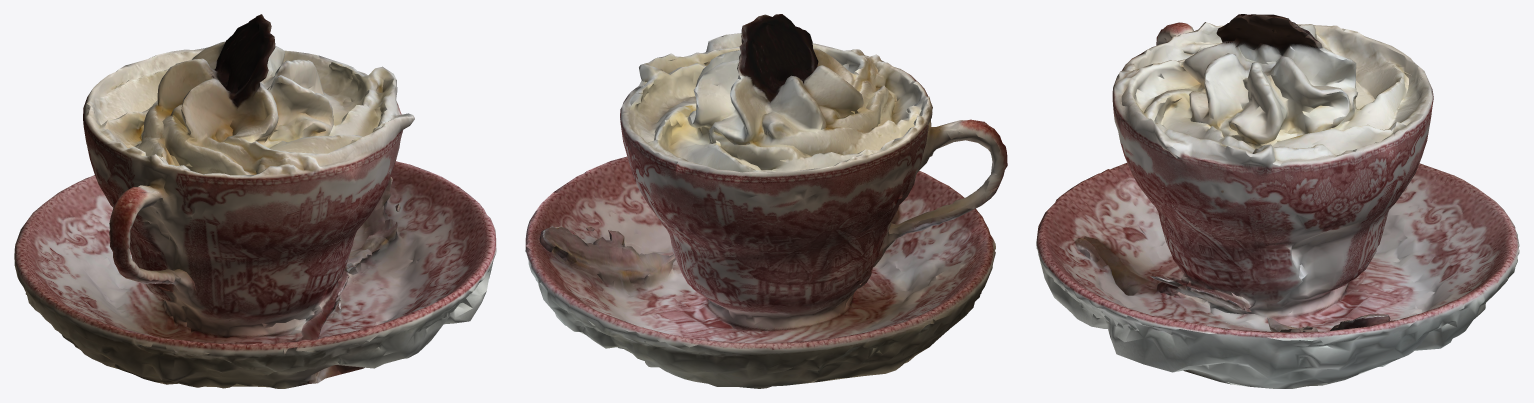
File: drink-cafe-chantilly.glb
3 views of the same model, side by side, from view 1: azimuth 30°, elevation 25°; view 2: azimuth 150°, elevation 25°; view 3: azimuth 270°, elevation 25° (orthographic). The views are drawn at different scales.
Visible parts, largest first — view 1: Object_2; view 2: Object_2; view 3: Object_2.
Part boxes in pixels (x1,y1,x2,y2): Object_2: [14, 14, 496, 388]; Object_2: [525, 14, 1007, 388]; Object_2: [1036, 14, 1519, 388].
Size of the model in its own units: 0.1419 by 0.0965 by 0.1412.
Materials: 1 (1 with a texture image).
